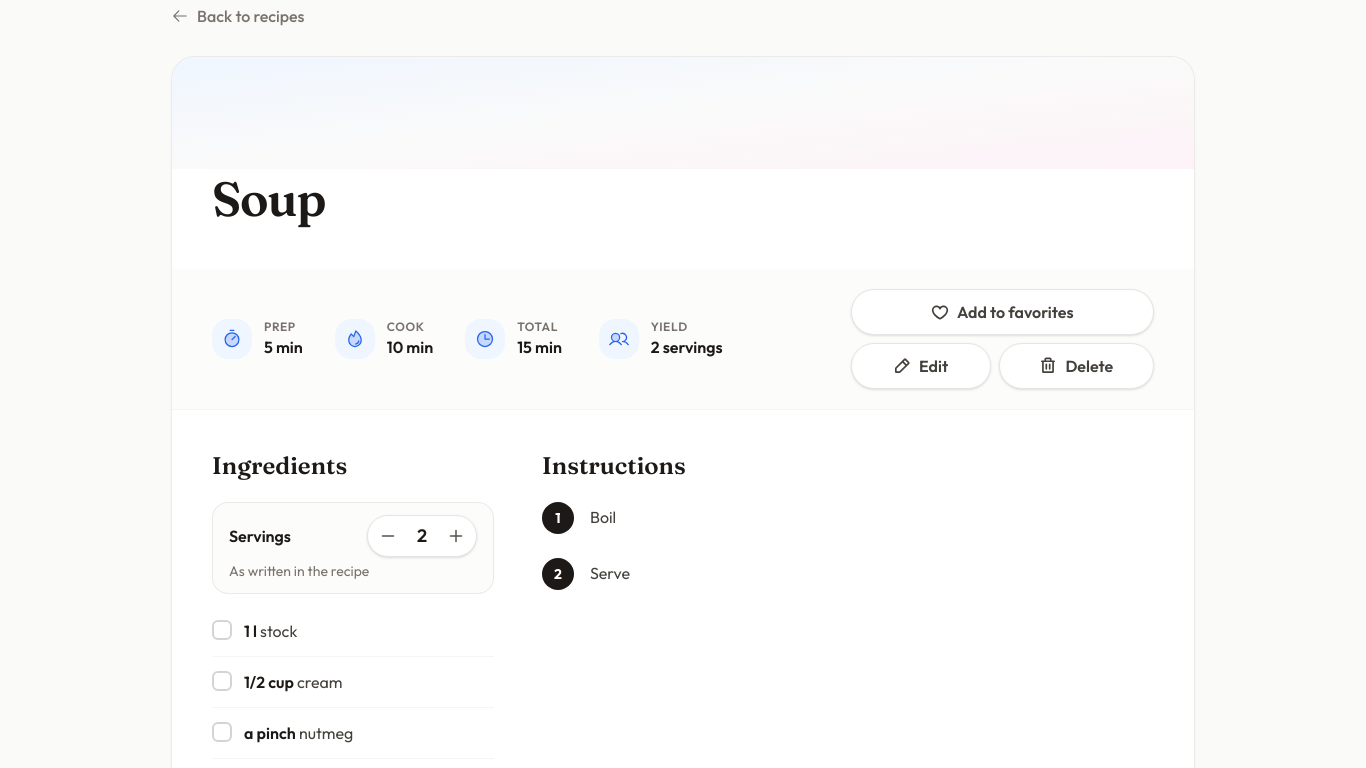
Test: serving size › Reset goes back to the amounts as written
This screenshot has width=1366, height=768.
Check: the heading "Soup" is shown, box [212,169,325,228]
Click the button named "More servings" at (456, 536), box [440,520,472,552]
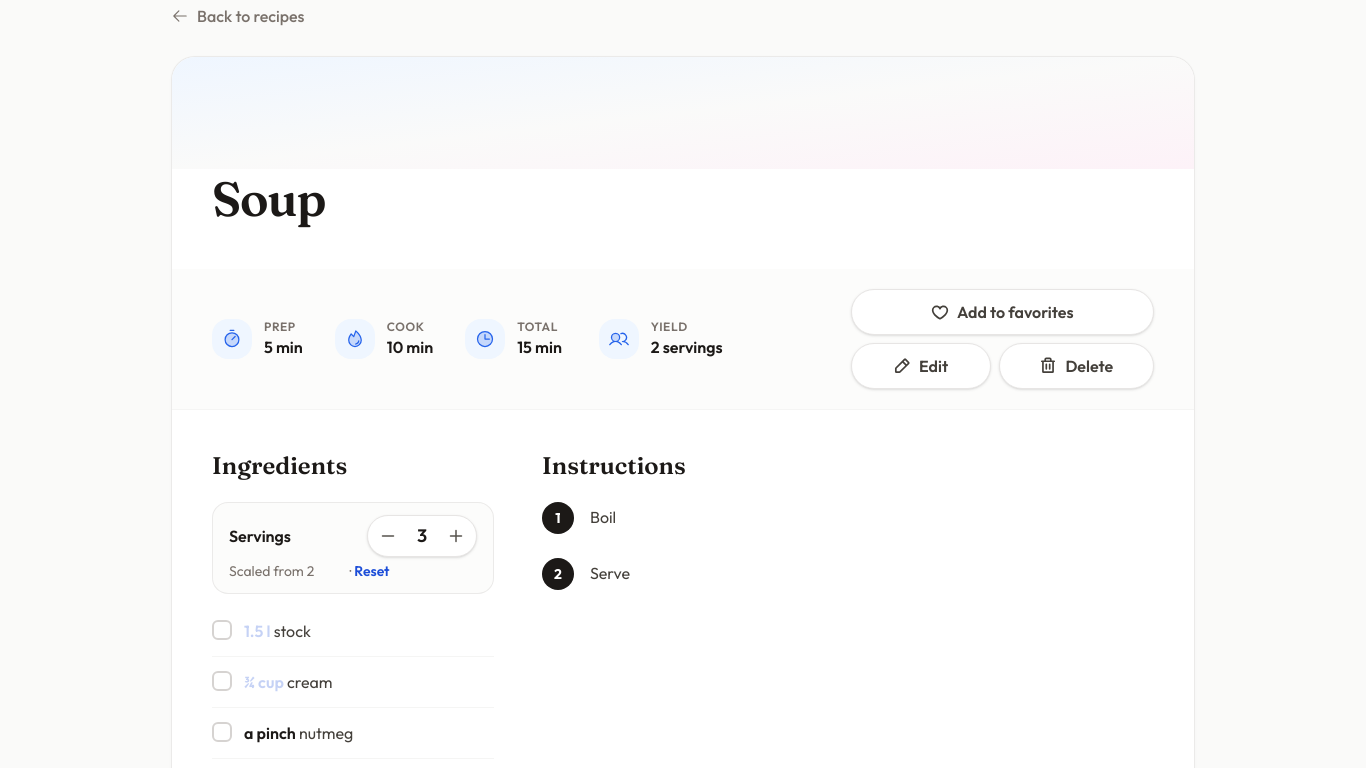
Click the button with aria-label "Reset to 2 servings" at (387, 571), box [354,561,419,581]
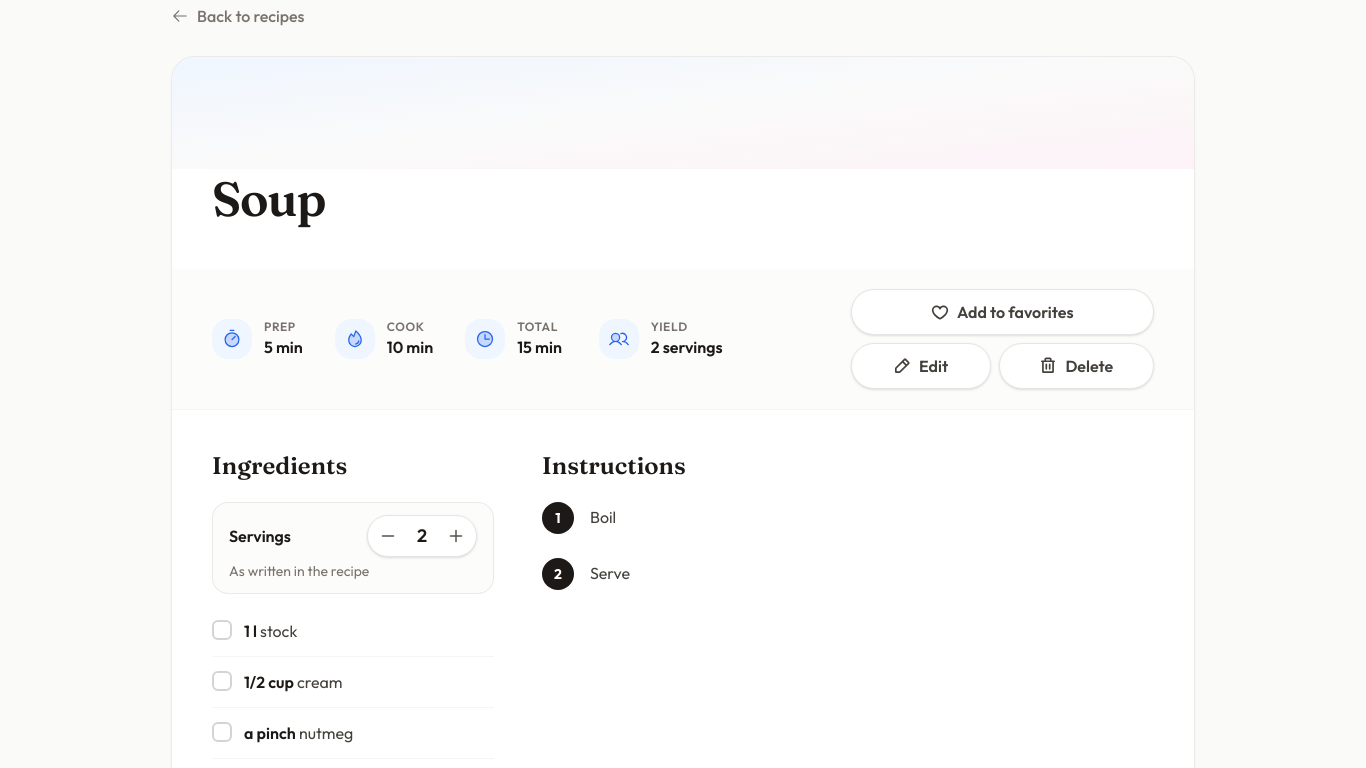
Check: the text "1 l" is shown, box [244,621,257,641]
